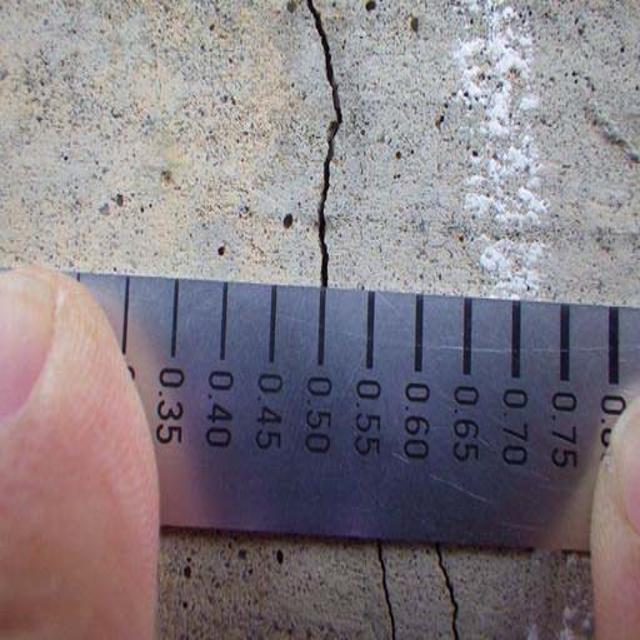crack: (294, 1, 370, 283), (364, 548, 466, 638)
